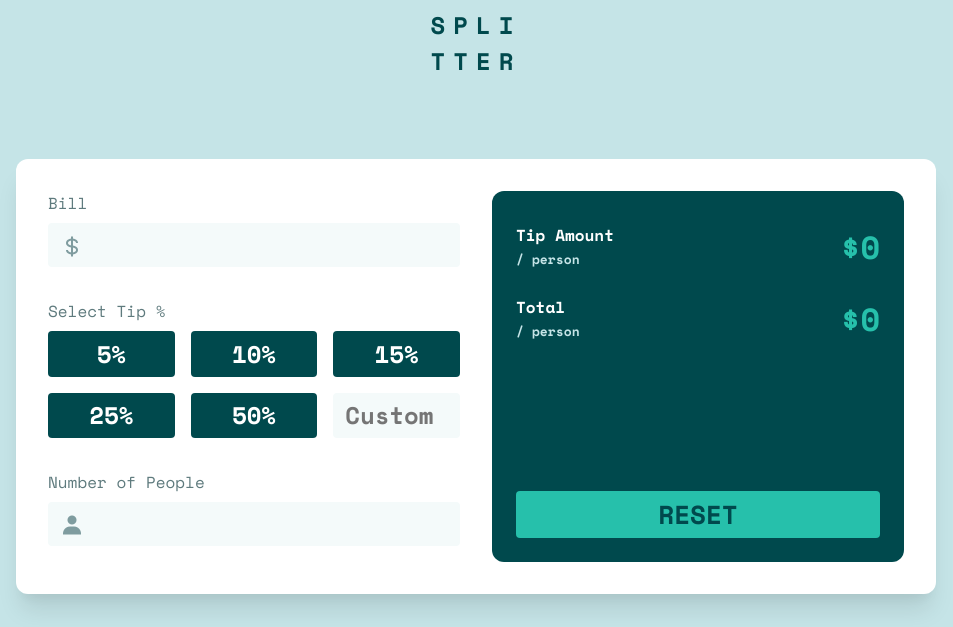
Test case: reset all values with reset btn
This screenshot has width=953, height=627.
Type "2000" into the number field with test id "bill-input" at (254,245), box [48,223,460,267]
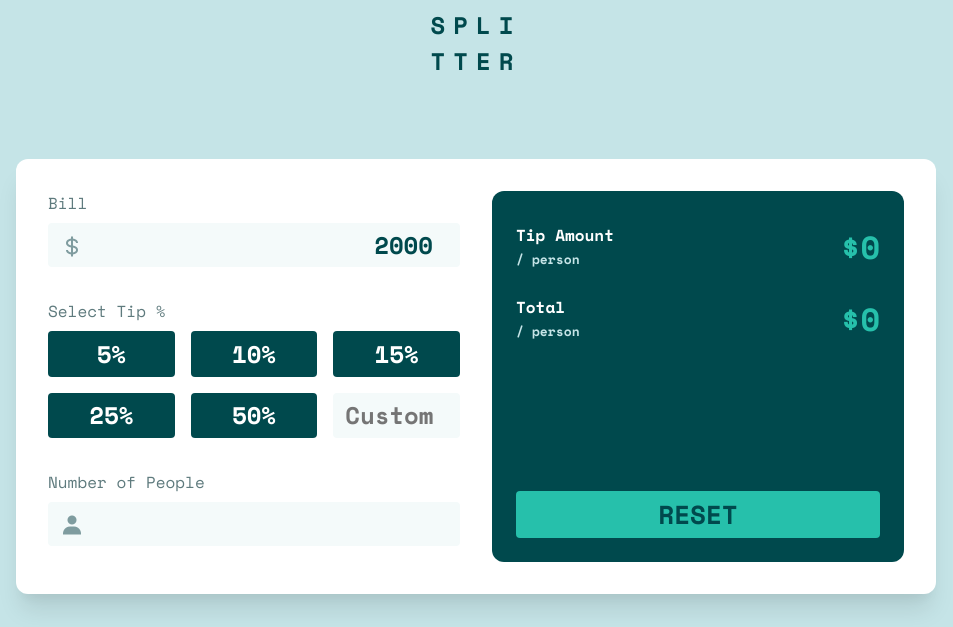
Type "10" into the number field with test id "custom-tip" at (397,415), box [333,393,460,438]
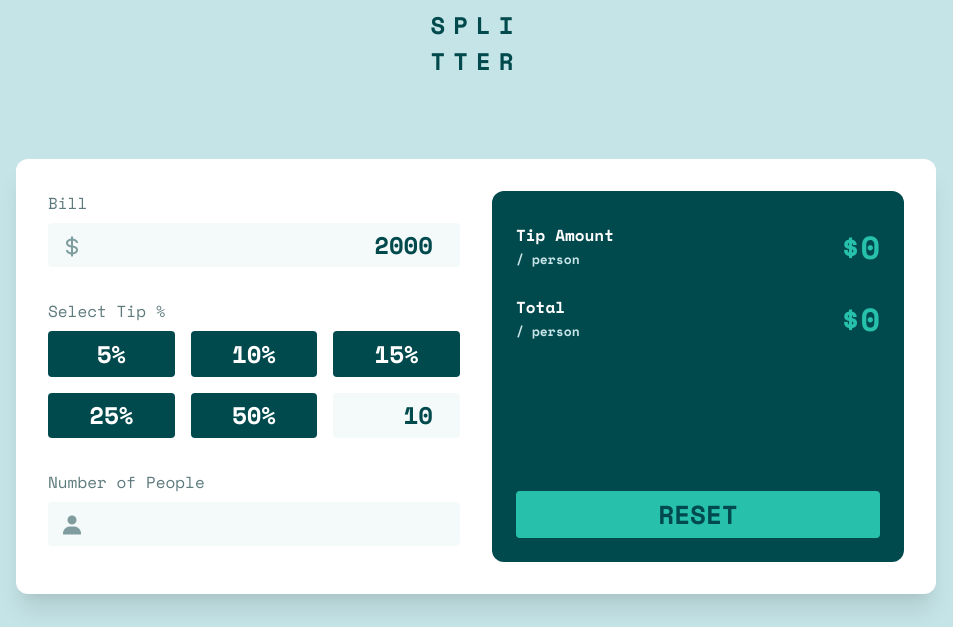
Type "2" into the number field with test id "ppl-input" at (254,524), box [48,502,460,546]
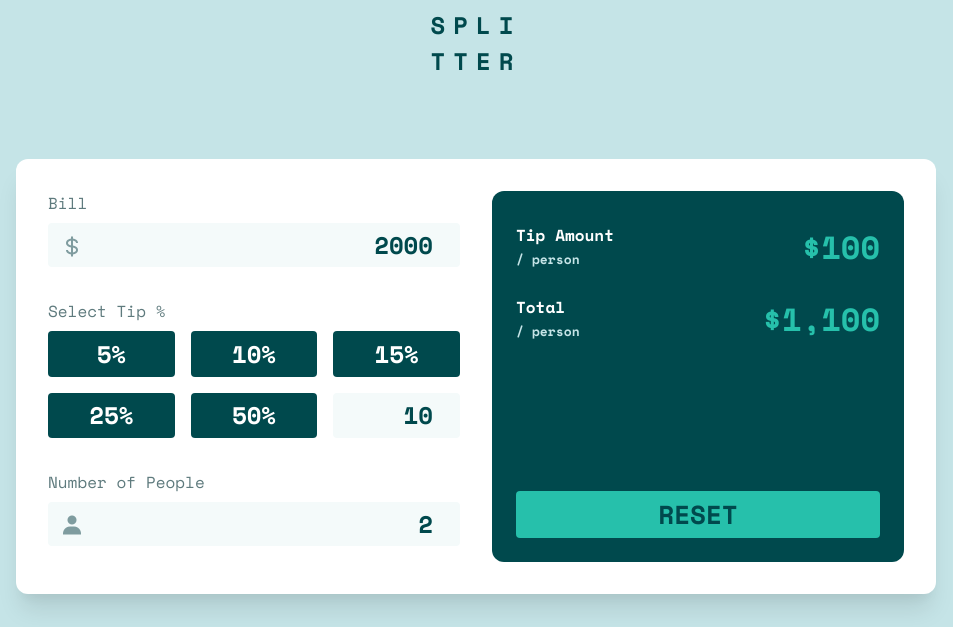
Click the button "RESET" at (698,514), box [516,491,880,538]
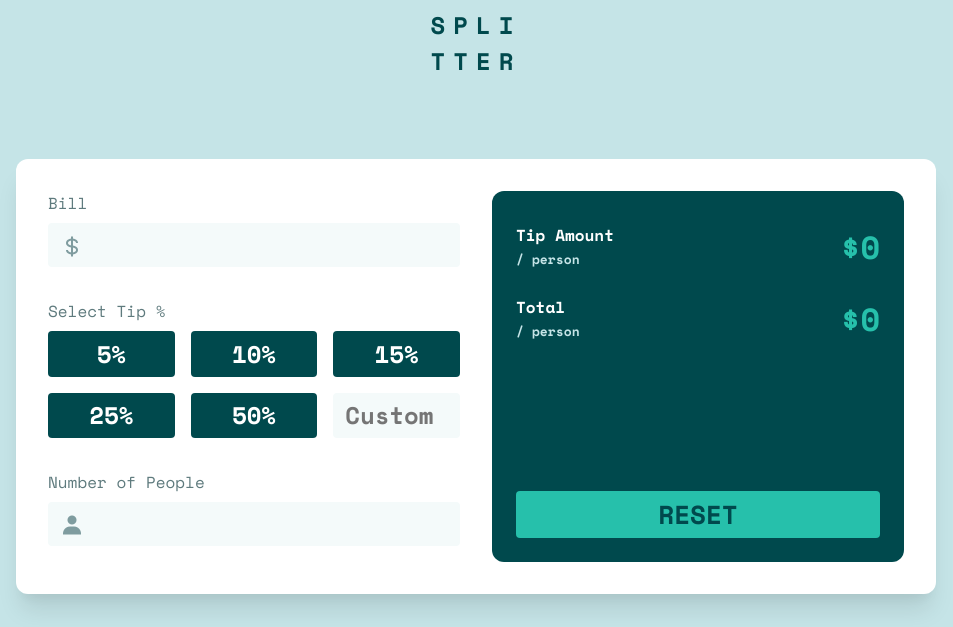
Result: the number field with test id "bill-input" is not empty at [48,223,460,267]
Result: the number field with test id "custom-tip" is not empty at [333,393,460,438]
Result: the number field with test id "ppl-input" is not empty at [48,502,460,546]
